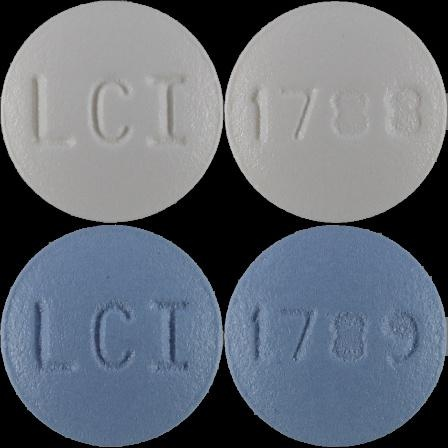0527-1788: (0, 0, 224, 224)
